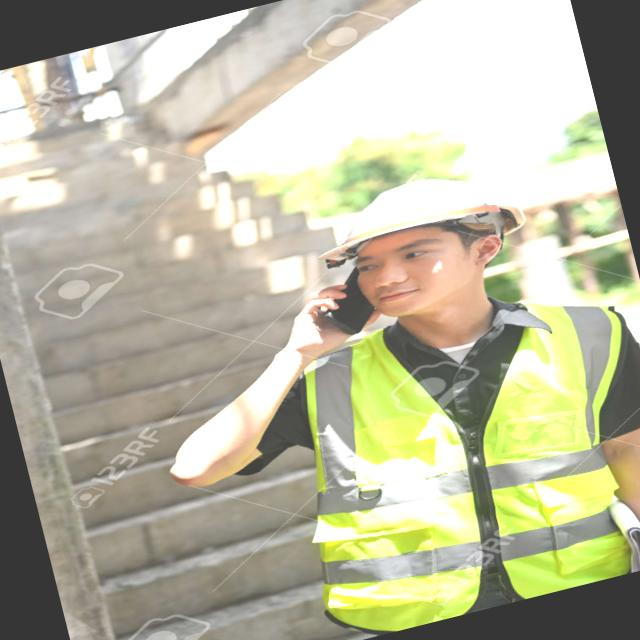helmet: (307, 147, 554, 293)
no-goggles: (336, 226, 473, 288)
vest: (293, 275, 640, 638)
